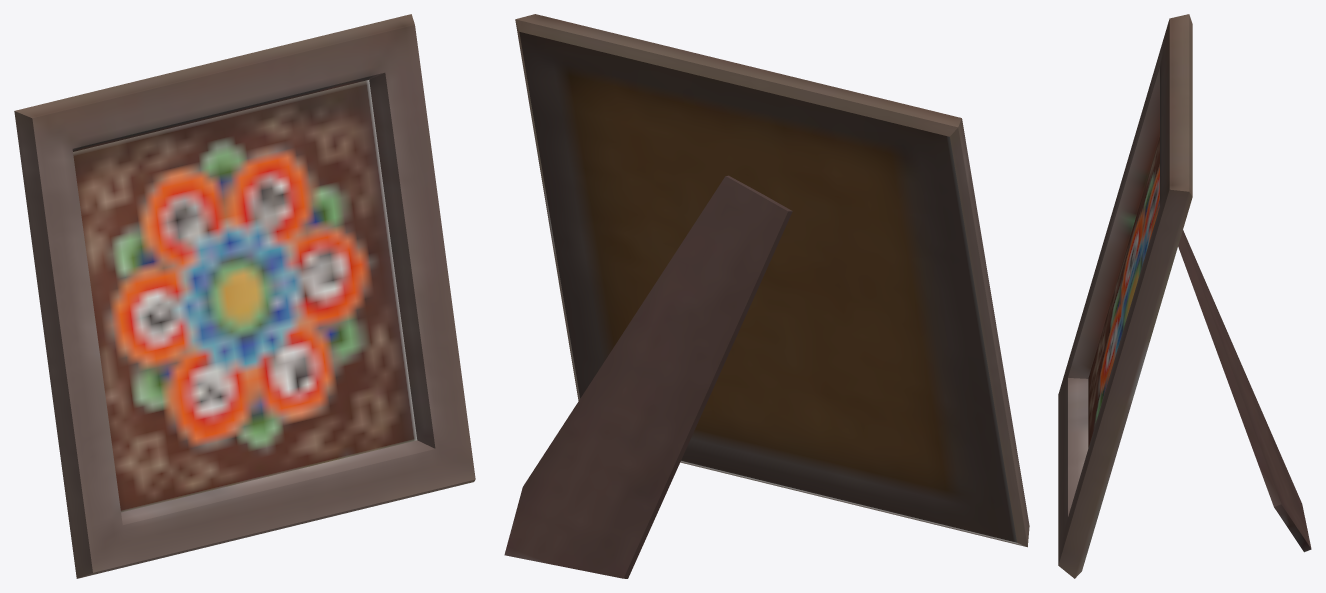
The model's file is Painting_Stand_B.FBX.
The picture shows the model from 3 angles, left to right: view 1: azimuth 30°, elevation 25°; view 2: azimuth 150°, elevation 25°; view 3: azimuth 270°, elevation 25°; orthographic projection. The views are drawn at different scales.
Parts seen in each view (by area): view 1: Painting_Stand_B; view 2: Painting_Stand_B; view 3: Painting_Stand_B.
Boxes of the visible parts, bbox=[...] form: Painting_Stand_B: bbox=[14, 14, 475, 578]; Painting_Stand_B: bbox=[504, 14, 1029, 578]; Painting_Stand_B: bbox=[1058, 14, 1311, 578].
Size of the model in its own units: 17.28 by 17.55 by 10.4.
